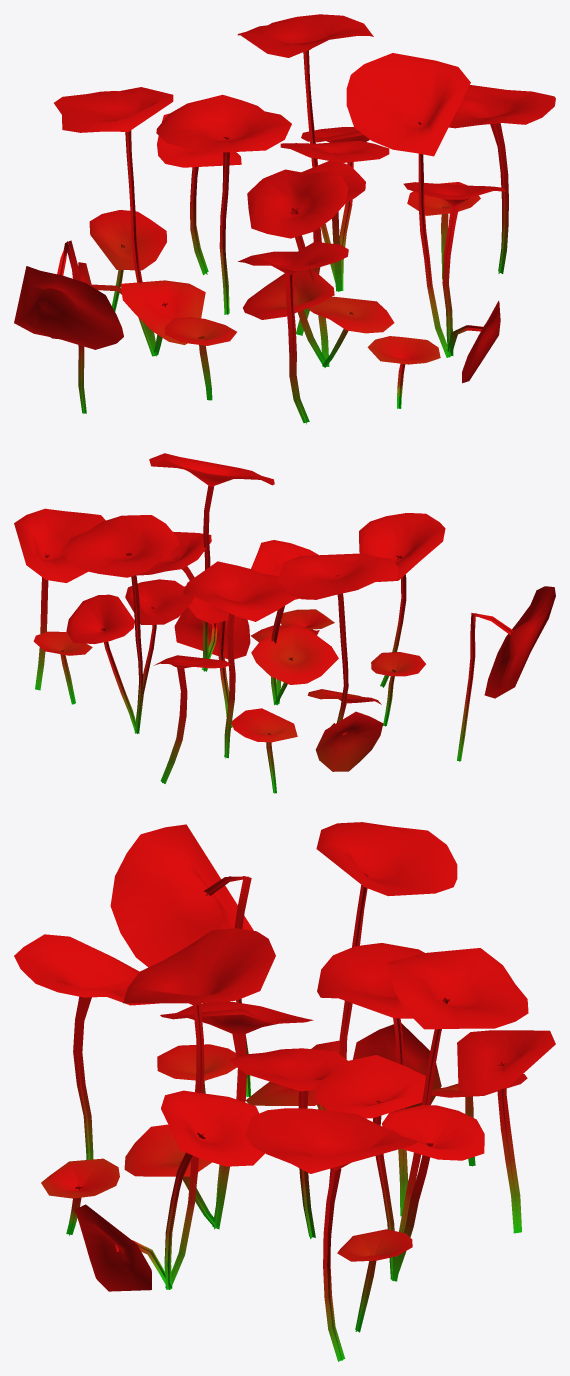
File: Native Violet_LOD2_Var25_ultkcfeja.fbx
3 views of the same model, one above another, from view 1: azimuth 30°, elevation 25°; view 2: azimuth 150°, elevation 25°; view 3: azimuth 270°, elevation 25° (orthographic). The views are drawn at different scales.
Visible parts, largest first — view 1: _004o_Var25_LOD2; view 2: _004o_Var25_LOD2; view 3: _004o_Var25_LOD2.
Boxes of the visible parts, box(x1,y1,x2,y2) form: _004o_Var25_LOD2: box(14, 14, 555, 424); _004o_Var25_LOD2: box(14, 453, 555, 793); _004o_Var25_LOD2: box(14, 822, 555, 1361).
Bounding box in the file's own units: 30.5 × 13.99 × 20.69.
